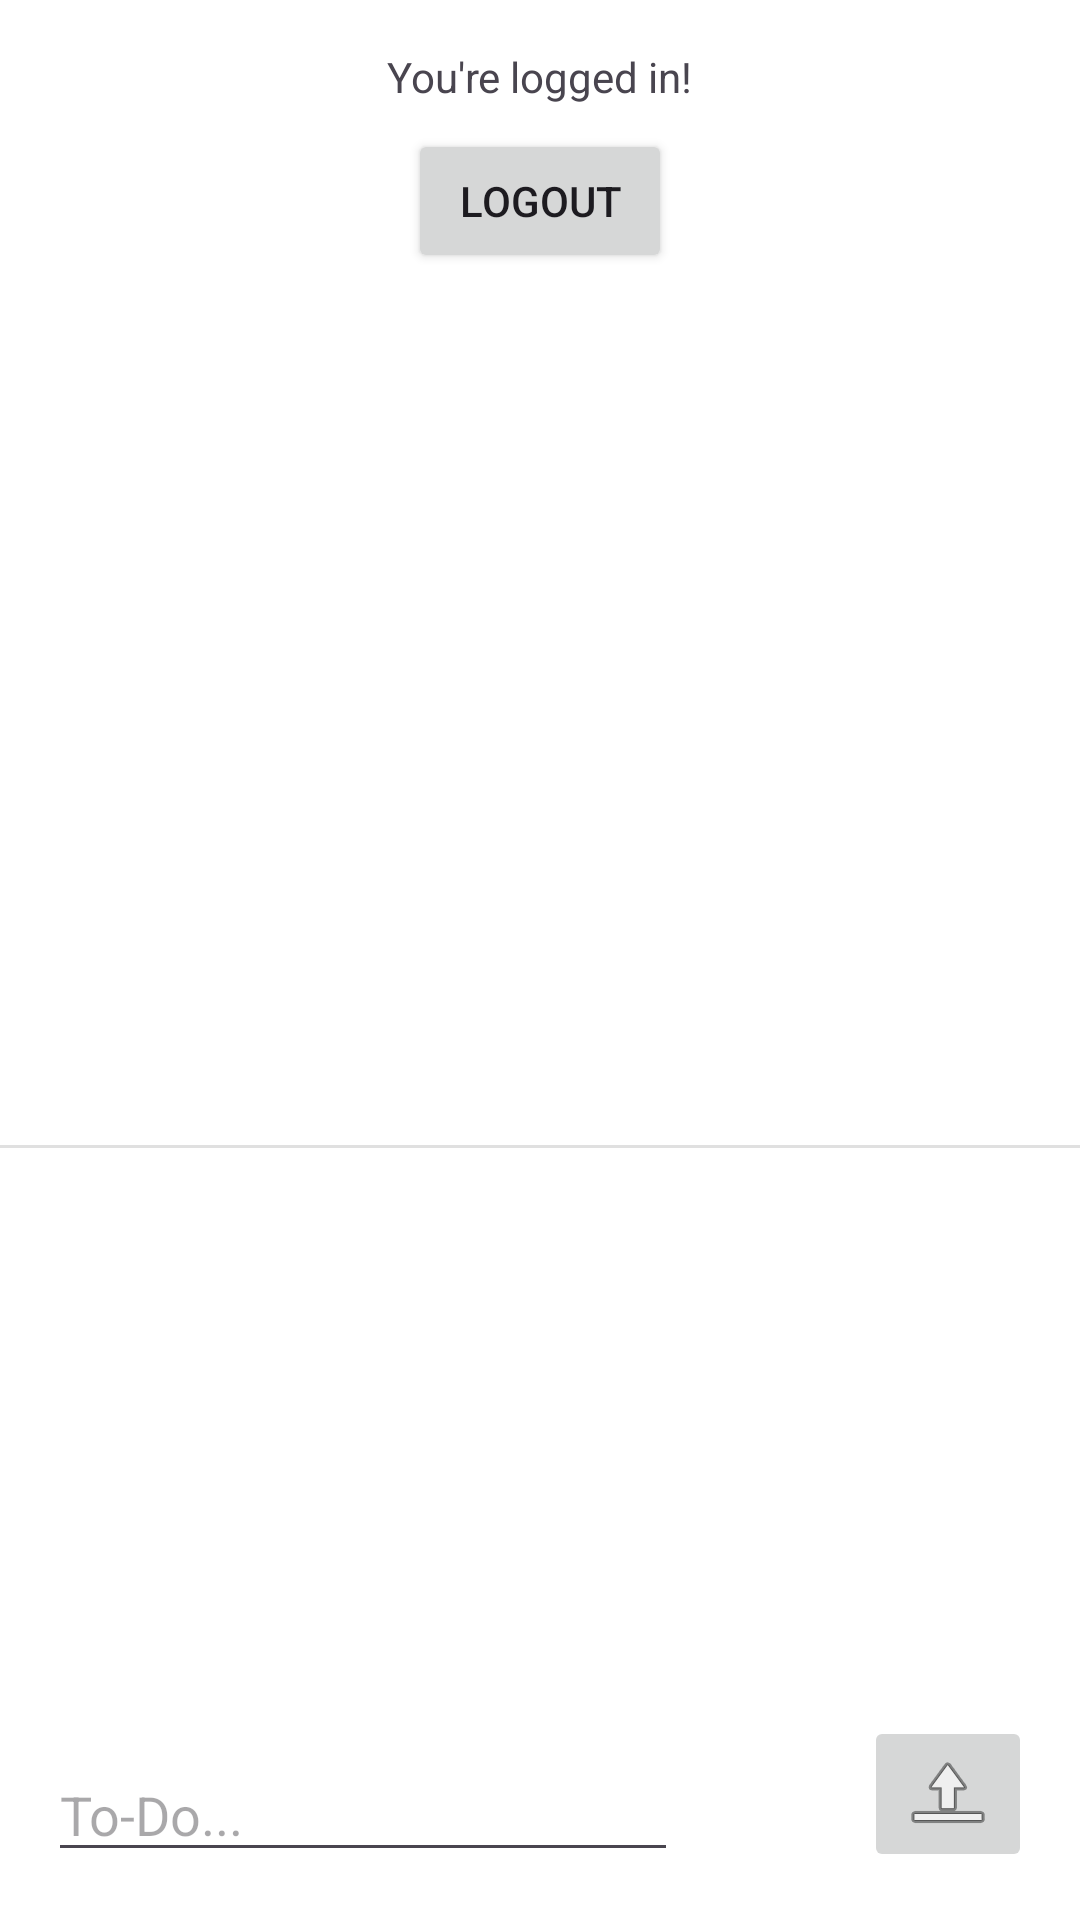

Where icons sit on this 1080×1920 app screen, as (x1,y1,x2,y2):
upload: (876,1734,1020,1854)
